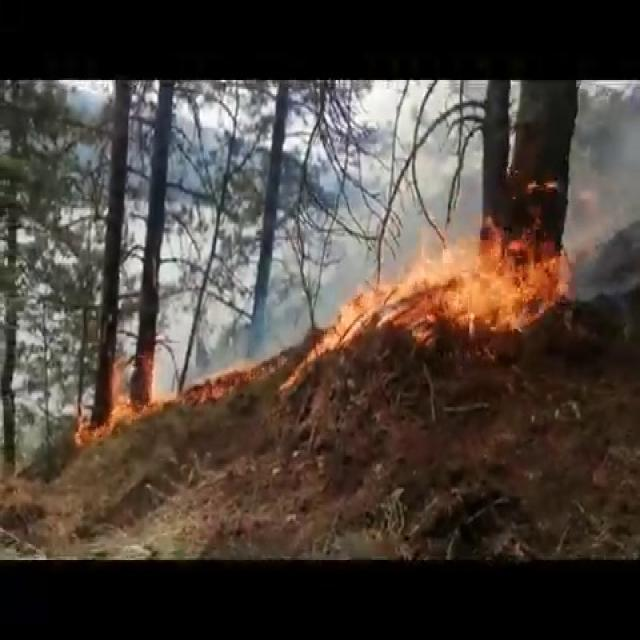Fire: (330, 210, 578, 346), (75, 342, 174, 449)
Smoke: (560, 80, 640, 286)
